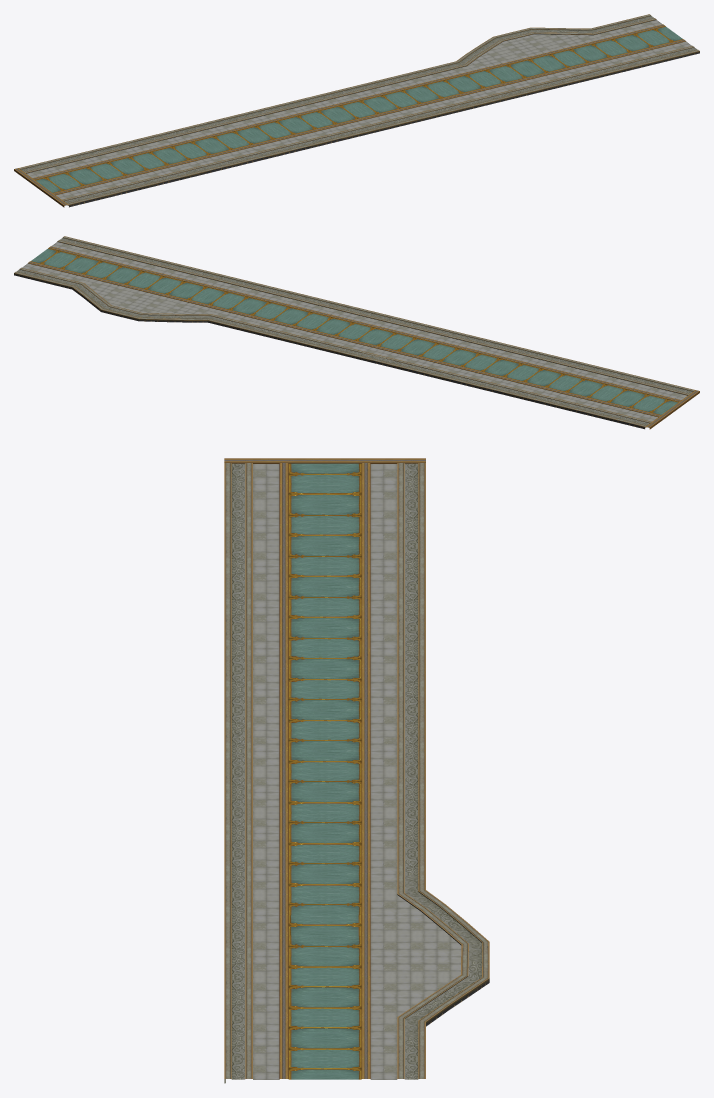
Rendered from Yland1_dm_07 Yland1.FBX.
3 views of the same model, one above another, from view 1: azimuth 30°, elevation 25°; view 2: azimuth 150°, elevation 25°; view 3: azimuth 270°, elevation 25° (orthographic). The views are drawn at different scales.
Visible parts, largest first — view 1: Yland1_dm_07 Yland1; view 2: Yland1_dm_07 Yland1; view 3: Yland1_dm_07 Yland1.
Part boxes in pixels (bbox=[...]): Yland1_dm_07 Yland1: bbox=[14, 14, 699, 207]; Yland1_dm_07 Yland1: bbox=[14, 236, 699, 429]; Yland1_dm_07 Yland1: bbox=[224, 458, 489, 1083].
Size of the model in its own units: 9023 by 33.59 by 1633.
